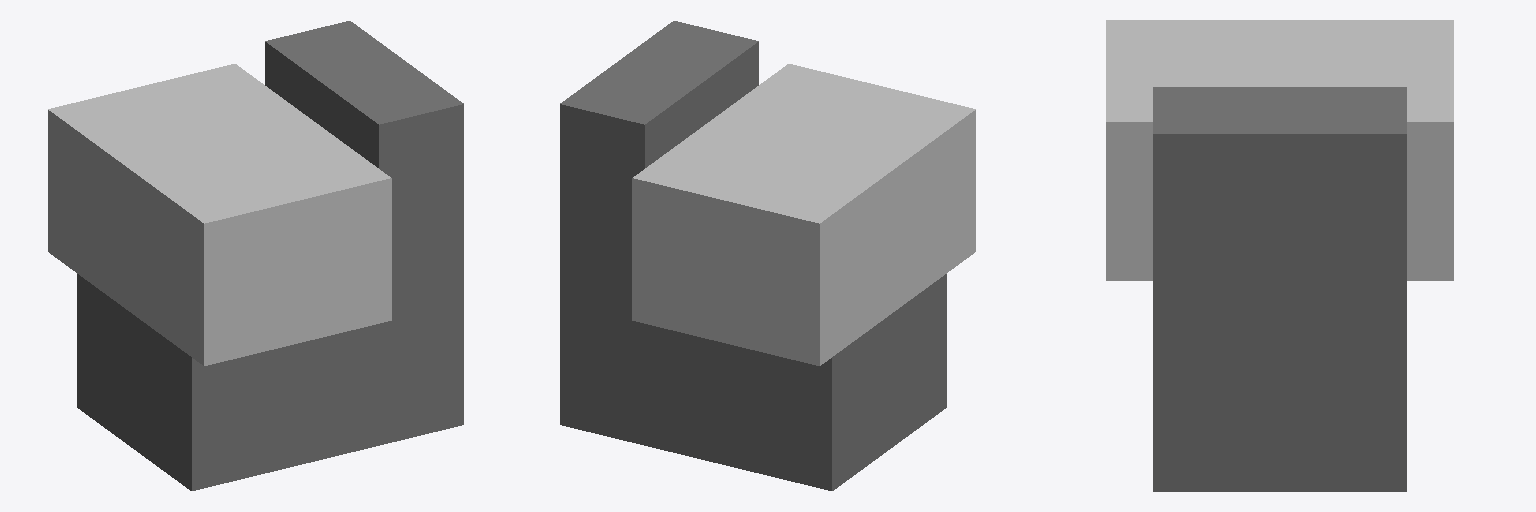
robot.urdf — cpm_fix_rod_30:
<robot name="cpm_fix_rod_30">
  
  
  
  
  <link name="world"><inertial><mass value="0.0" /><origin rpy="0 0 0" xyz="0 0 0" /><inertia ixx="0.0" ixy="0.0" ixz="0.0" iyy="0.0" iyz="0.0" izz="0.0" /></inertial></link>
  <joint name="world_joint" type="fixed">
    <parent link="world" />
    <child link="mobile_base_link" />
    <origin rpy="0.0 0.0 0.0" xyz="-0.275 0.0 0.2" />
  </joint>
  <link name="mobile_base_link">
    <inertial>
      <mass value="100.0" />
      <origin rpy="0 0 0" xyz="0 0 0.4" />
      <inertia ixx="4.136665012" ixy="0.0" ixz="0.0" iyy="6.666664000000002" iyz="0.0" izz="8.136663412" />
    </inertial>
    <visual>
      <material name="grey">
        <color rgba="0.5 0.5 0.5 1" />
      </material>
      <orign rpy="0.0 0.0 0.0" xyz="0.0 0.0 0.0" />
      <geometry>
        <box size="0.8 0.58 0.4" />
      </geometry>
    </visual>
    <collision>
      <orign rpy="0.0 0.0 0.0" xyz="0.0 0.0 0.0" />
      <geometry>
        <box size="0.8 0.58 0.4" />
      </geometry>
    </collision>
  </link>
  <joint name="tower_joint" type="fixed">
    <parent link="mobile_base_link" />
    <child link="tower_link" />
    <origin rpy="0.0 0.0 0.0" xyz="0.275 0.0 0.45" />
  </joint>
  <link name="tower_link">
    <inertial>
      <mass value="50.0" />
      <origin rpy="0 0 0" xyz="0 0 0.5" />
      <inertia ixx="2.443332356" ixy="0.0" ixz="0.0" iyy="1.3020828125000001" iyz="0.0" izz="1.6620826684999999" />
    </inertial>
    <visual>
      <material name="grey">
        <color rgba="0.5 0.5 0.5 1" />
      </material>
      <orign rpy="0.0 0.0 0.0" xyz="0.0 0.0 0.0" />
      <geometry>
        <box size="0.25 0.58 0.5" />
      </geometry>
    </visual>
    <collision>
      <orign rpy="0.0 0.0 0.0" xyz="0.0 0.0 0.0" />
      <geometry>
        <box size="0.25 0.58 0.5" />
      </geometry>
    </collision>
  </link>
  <joint name="battery_joint" type="fixed">
    <parent link="mobile_base_link" />
    <child link="battery_link" />
    <origin rpy="0.0 0.0 0.0" xyz="-0.15 0.0 0.4" />
  </joint>
  <link name="battery_link">
    <inertial>
      <mass value="300.0" />
      <origin rpy="0 0 0" xyz="0 0 0.4" />
      <inertia ixx="19.80061707975" ixy="0.0" ixz="0.0" iyy="11.562495375000003" iyz="0.0" izz="23.36311565475" />
    </inertial>
    <visual>
      <material name="aluminium">
        <color rgba="0.8 0.8 0.8 1" />
      </material>
      <orign rpy="0.0 0.0 0.0" xyz="0.0 0.0 0.0" />
      <geometry>
        <box size="0.55 0.795 0.4" />
      </geometry>
    </visual>
    <collision>
      <orign rpy="0.0 0.0 0.0" xyz="0.0 0.0 0.0" />
      <geometry>
        <box size="0.55 0.795 0.4" />
      </geometry>
    </collision>
  </link>
  
  <gazebo reference="mobile_base_link">
    <material>Gazebo/DarkGrey</material>
  </gazebo>
  <gazebo reference="tower_link">
    <material>Gazebo/DarkGrey</material>
  </gazebo>
  <gazebo reference="battery_link">
    <material>Gazebo/Grey</material>
  </gazebo>
  
  <joint name="platform_ur10e_joint" type="fixed">
    <parent link="tower_link" />
    <child link="base_link" />
    <origin rpy="0.0 0.0 1.570795" xyz="0.0 0.0 0.25" />
  </joint>
  
  
  <transmission name="shoulder_pan_trans">
    <type>transmission_interface/SimpleTransmission</type>
    <joint name="shoulder_pan_joint">
      <hardwareInterface>hardware_interface/VelocityJointInterface</hardwareInterface>
    </joint>
    <actuator name="shoulder_pan_motor">
      <mechanicalReduction>1</mechanicalReduction>
    </actuator>
  </transmission>
  <transmission name="shoulder_lift_trans">
    <type>transmission_interface/SimpleTransmission</type>
    <joint name="shoulder_lift_joint">
      <hardwareInterface>hardware_interface/VelocityJointInterface</hardwareInterface>
    </joint>
    <actuator name="shoulder_lift_motor">
      <mechanicalReduction>1</mechanicalReduction>
    </actuator>
  </transmission>
  <transmission name="elbow_trans">
    <type>transmission_interface/SimpleTransmission</type>
    <joint name="elbow_joint">
      <hardwareInterface>hardware_interface/VelocityJointInterface</hardwareInterface>
    </joint>
    <actuator name="elbow_motor">
      <mechanicalReduction>1</mechanicalReduction>
    </actuator>
  </transmission>
  <transmission name="wrist_1_trans">
    <type>transmission_interface/SimpleTransmission</type>
    <joint name="wrist_1_joint">
      <hardwareInterface>hardware_interface/VelocityJointInterface</hardwareInterface>
    </joint>
    <actuator name="wrist_1_motor">
      <mechanicalReduction>1</mechanicalReduction>
    </actuator>
  </transmission>
  <transmission name="wrist_2_trans">
    <type>transmission_interface/SimpleTransmission</type>
    <joint name="wrist_2_joint">
      <hardwareInterface>hardware_interface/VelocityJointInterface</hardwareInterface>
    </joint>
    <actuator name="wrist_2_motor">
      <mechanicalReduction>1</mechanicalReduction>
    </actuator>
  </transmission>
  <transmission name="wrist_3_trans">
    <type>transmission_interface/SimpleTransmission</type>
    <joint name="wrist_3_joint">
      <hardwareInterface>hardware_interface/VelocityJointInterface</hardwareInterface>
    </joint>
    <actuator name="wrist_3_motor">
      <mechanicalReduction>1</mechanicalReduction>
    </actuator>
  </transmission>
  
  <link name="base_link"><inertial><mass value="0.0" /><origin rpy="0 0 0" xyz="0 0 0" /><inertia ixx="0.0" ixy="0.0" ixz="0.0" iyy="0.0" iyz="0.0" izz="0.0" /></inertial></link>
  <link name="base_link_inertia">
    <visual>
      <origin rpy="0 0 3.141592653589793" xyz="0 0 0" />
      <geometry>
        <mesh filename="package://ur_description/meshes/ur10e/visual/base.dae" />
      </geometry>
      <material name="LightGrey">
        <color rgba="0.7 0.7 0.7 1.0" />
      </material>
    </visual>
    <collision>
      <origin rpy="0 0 3.141592653589793" xyz="0 0 0" />
      <geometry>
        <mesh filename="package://ur_description/meshes/ur10e/collision/base.stl" />
      </geometry>
    </collision>
    <inertial>
      <mass value="4.0" />
      <origin rpy="0 0 0" xyz="0 0 0" />
      <inertia ixx="0.0061063308908" ixy="0.0" ixz="0.0" iyy="0.0061063308908" iyz="0.0" izz="0.01125" />
    </inertial>
  </link>
  <link name="shoulder_link">
    <visual>
      <origin rpy="0 0 3.141592653589793" xyz="0 0 0" />
      <geometry>
        <mesh filename="package://ur_description/meshes/ur10e/visual/shoulder.dae" />
      </geometry>
      <material name="LightGrey">
        <color rgba="0.7 0.7 0.7 1.0" />
      </material>
    </visual>
    <collision>
      <origin rpy="0 0 3.141592653589793" xyz="0 0 0" />
      <geometry>
        <mesh filename="package://ur_description/meshes/ur10e/collision/shoulder.stl" />
      </geometry>
    </collision>
    <inertial>
      <mass value="7.778" />
      <origin rpy="0 0 0" xyz="0 0 0" />
      <inertia ixx="0.03147431257693659" ixy="0.0" ixz="0.0" iyy="0.03147431257693659" iyz="0.0" izz="0.021875624999999996" />
    </inertial>
  </link>
  <link name="upper_arm_link">
    <visual>
      <origin rpy="1.5707963267948966 0 -1.5707963267948966" xyz="0 0 0.1762" />
      <geometry>
        <mesh filename="package://ur_description/meshes/ur10e/visual/upperarm.dae" />
      </geometry>
      <material name="LightGrey">
        <color rgba="0.7 0.7 0.7 1.0" />
      </material>
    </visual>
    <collision>
      <origin rpy="1.5707963267948966 0 -1.5707963267948966" xyz="0 0 0.1762" />
      <geometry>
        <mesh filename="package://ur_description/meshes/ur10e/collision/upperarm.stl" />
      </geometry>
    </collision>
    <inertial>
      <mass value="12.93" />
      <origin rpy="0 1.5707963267948966 0" xyz="-0.306 0.0 0.175" />
      <inertia ixx="0.42175380379841093" ixy="0.0" ixz="0.0" iyy="0.42175380379841093" iyz="0.0" izz="0.03636562499999999" />
    </inertial>
  </link>
  <link name="forearm_link">
    <visual>
      <origin rpy="1.5707963267948966 0 -1.5707963267948966" xyz="0 0 0.0393" />
      <geometry>
        <mesh filename="package://ur_description/meshes/ur10e/visual/forearm.dae" />
      </geometry>
      <material name="LightGrey">
        <color rgba="0.7 0.7 0.7 1.0" />
      </material>
    </visual>
    <collision>
      <origin rpy="1.5707963267948966 0 -1.5707963267948966" xyz="0 0 0.0393" />
      <geometry>
        <mesh filename="package://ur_description/meshes/ur10e/collision/forearm.stl" />
      </geometry>
    </collision>
    <inertial>
      <mass value="3.87" />
      <origin rpy="0 1.5707963267948966 0" xyz="-0.285775 0.0 0.0393" />
      <inertia ixx="0.11079302548902206" ixy="0.0" ixz="0.0" iyy="0.11079302548902206" iyz="0.0" izz="0.010884375" />
    </inertial>
  </link>
  <link name="wrist_1_link">
    <visual>
      
      <origin rpy="1.5707963267948966 0 0" xyz="0 0 -0.135" />
      <geometry>
        <mesh filename="package://ur_description/meshes/ur10e/visual/wrist1.dae" />
      </geometry>
      <material name="LightGrey">
        <color rgba="0.7 0.7 0.7 1.0" />
      </material>
    </visual>
    <collision>
      <origin rpy="1.5707963267948966 0 0" xyz="0 0 -0.135" />
      <geometry>
        <mesh filename="package://ur_description/meshes/ur10e/collision/wrist1.stl" />
      </geometry>
    </collision>
    <inertial>
      <mass value="1.96" />
      <origin rpy="0 0 0" xyz="0 0 0" />
      <inertia ixx="0.005108247956699999" ixy="0.0" ixz="0.0" iyy="0.005108247956699999" iyz="0.0" izz="0.005512499999999999" />
    </inertial>
  </link>
  <link name="wrist_2_link">
    <visual>
      <origin rpy="0 0 0" xyz="0 0 -0.12" />
      <geometry>
        <mesh filename="package://ur_description/meshes/ur10e/visual/wrist2.dae" />
      </geometry>
      <material name="LightGrey">
        <color rgba="0.7 0.7 0.7 1.0" />
      </material>
    </visual>
    <collision>
      <origin rpy="0 0 0" xyz="0 0 -0.12" />
      <geometry>
        <mesh filename="package://ur_description/meshes/ur10e/collision/wrist2.stl" />
      </geometry>
    </collision>
    <inertial>
      <mass value="1.96" />
      <origin rpy="0 0 0" xyz="0 0 0" />
      <inertia ixx="0.005108247956699999" ixy="0.0" ixz="0.0" iyy="0.005108247956699999" iyz="0.0" izz="0.005512499999999999" />
    </inertial>
  </link>
  <link name="wrist_3_link">
    <visual>
      <origin rpy="1.5707963267948966 0 0" xyz="0 0 -0.1168" />
      <geometry>
        <mesh filename="package://ur_description/meshes/ur10e/visual/wrist3.dae" />
      </geometry>
      <material name="LightGrey">
        <color rgba="0.7 0.7 0.7 1.0" />
      </material>
    </visual>
    <collision>
      <origin rpy="1.5707963267948966 0 0" xyz="0 0 -0.1168" />
      <geometry>
        <mesh filename="package://ur_description/meshes/ur10e/collision/wrist3.stl" />
      </geometry>
    </collision>
    <inertial>
      <mass value="0.202" />
      <origin rpy="0 0 0" xyz="0.0 0.0 -0.025" />
      <inertia ixx="0.00014434577559500002" ixy="0.0" ixz="0.0" iyy="0.00014434577559500002" iyz="0.0" izz="0.00020452500000000002" />
    </inertial>
  </link>
  
  <joint name="base_link-base_link_inertia" type="fixed">
    <parent link="base_link" />
    <child link="base_link_inertia" />
    
    <origin rpy="0 0 3.141592653589793" xyz="0 0 0" />
  </joint>
  <joint name="shoulder_pan_joint" type="revolute">
    <parent link="base_link_inertia" />
    <child link="shoulder_link" />
    <origin rpy="0 0 0" xyz="0 0 0.1807" />
    <axis xyz="0 0 1" />
    <limit effort="330.0" lower="-3.141592653589793" upper="3.141592653589793" velocity="3.141592653589793" />
    <dynamics damping="0" friction="0" />
  </joint>
  <joint name="shoulder_lift_joint" type="revolute">
    <parent link="shoulder_link" />
    <child link="upper_arm_link" />
    <origin rpy="1.570796327 0 0" xyz="0 0 0" />
    <axis xyz="0 0 1" />
    <limit effort="330.0" lower="-3.141592653589793" upper="0.0" velocity="3.141592653589793" />
    <dynamics damping="0" friction="0" />
  </joint>
  <joint name="elbow_joint" type="revolute">
    <parent link="upper_arm_link" />
    <child link="forearm_link" />
    <origin rpy="0 0 0" xyz="-0.6127 0 0" />
    <axis xyz="0 0 1" />
    <limit effort="150.0" lower="-3.141592653589793" upper="0.0" velocity="3.141592653589793" />
    <dynamics damping="0" friction="0" />
  </joint>
  <joint name="wrist_1_joint" type="revolute">
    <parent link="forearm_link" />
    <child link="wrist_1_link" />
    <origin rpy="0 0 0" xyz="-0.57155 0 0.17415" />
    <axis xyz="0 0 1" />
    <limit effort="56.0" lower="-3.141592653589793" upper="3.141592653589793" velocity="3.141592653589793" />
    <dynamics damping="0" friction="0" />
  </joint>
  <joint name="wrist_2_joint" type="revolute">
    <parent link="wrist_1_link" />
    <child link="wrist_2_link" />
    <origin rpy="1.570796327 0 0" xyz="0 -0.11985 -2.458164590756244e-11" />
    <axis xyz="0 0 1" />
    <limit effort="56.0" lower="-3.141592653589793" upper="3.141592653589793" velocity="3.141592653589793" />
    <dynamics damping="0" friction="0" />
  </joint>
  <joint name="wrist_3_joint" type="revolute">
    <parent link="wrist_2_link" />
    <child link="wrist_3_link" />
    <origin rpy="1.570796326589793 3.141592653589793 3.141592653589793" xyz="0 0.11655 -2.390480459346185e-11" />
    <axis xyz="0 0 1" />
    <limit effort="56.0" lower="-0.7853981633974483" upper="5.497787143782138" velocity="3.141592653589793" />
    <dynamics damping="0" friction="0" />
  </joint>
  
  <link name="base"><inertial><mass value="0.0" /><origin rpy="0 0 0" xyz="0 0 0" /><inertia ixx="0.0" ixy="0.0" ixz="0.0" iyy="0.0" iyz="0.0" izz="0.0" /></inertial></link>
  <joint name="base_link-base_fixed_joint" type="fixed">
    
    <origin rpy="0 0 3.141592653589793" xyz="0 0 0" />
    <parent link="base_link" />
    <child link="base" />
  </joint>
  
  <link name="flange"><inertial><mass value="0.0" /><origin rpy="0 0 0" xyz="0 0 0" /><inertia ixx="0.0" ixy="0.0" ixz="0.0" iyy="0.0" iyz="0.0" izz="0.0" /></inertial></link>
  <joint name="wrist_3-flange" type="fixed">
    <parent link="wrist_3_link" />
    <child link="flange" />
    <origin rpy="0 -1.5707963267948966 -1.5707963267948966" xyz="0 0 0" />
  </joint>
  
  <link name="tool0"><inertial><mass value="0.0" /><origin rpy="0 0 0" xyz="0 0 0" /><inertia ixx="0.0" ixy="0.0" ixz="0.0" iyy="0.0" iyz="0.0" izz="0.0" /></inertial></link>
  <joint name="flange-tool0" type="fixed">
    
    <origin rpy="1.5707963267948966 0 1.5707963267948966" xyz="0 0 0" />
    <parent link="flange" />
    <child link="tool0" />
  </joint>
  
  <gazebo reference="shoulder_link">
    <selfCollide>true</selfCollide>
  </gazebo>
  <gazebo reference="upper_arm_link">
    <selfCollide>true</selfCollide>
  </gazebo>
  <gazebo reference="forearm_link">
    <selfCollide>true</selfCollide>
  </gazebo>
  <gazebo reference="wrist_1_link">
    <selfCollide>true</selfCollide>
  </gazebo>
  <gazebo reference="wrist_3_link">
    <selfCollide>true</selfCollide>
  </gazebo>
  <gazebo reference="wrist_2_link">
    <selfCollide>true</selfCollide>
  </gazebo>
  <gazebo reference="ee_link">
    <selfCollide>true</selfCollide>
  </gazebo>
  <link name="ft_sensor_mounting">
    <inertial>
      <origin rpy="0 0 0" xyz="-9.4473E-05 0.00063177 0.010132" />
      <mass value="0.14931" />
      <inertia ixx="4.8806E-05" ixy="3.2223E-08" ixz="-1.0415E-07" iyy="5.5473E-05" iyz="1.3709E-07" izz="8.9696E-05" />
    </inertial>
    <visual>
      <origin rpy="0 0 0" xyz="0 0 0" />
      <geometry>
        <mesh filename="package://rokubimini_description/meshes/BFT_SENS_M8/mounting.STL" />
      </geometry>
      <material name="">
        <color rgba="0.6902 0.61176 0.52941 1" />
      </material>
    </visual>
    <collision>
      <origin rpy="0 0 0" xyz="0 0 0.011" />
      <geometry>
        <cylinder length="0.028" radius="0.035" />
      </geometry>
    </collision>
    <collision>
      <origin rpy="1.57 0 0" xyz="0 0.051 0.0115" />
      <geometry>
        <cylinder length="0.032" radius="0.0065" />
      </geometry>
    </collision>
    <collision>
      <origin rpy="0 0 0" xyz="0 0 0.03" />
      <geometry>
        <cylinder length="0.01" radius="0.0315" />
      </geometry>
    </collision>
  </link>
  <link name="ft_sensor_imu">
    <inertial>
      <origin rpy="0 0 0" xyz="-7.28164825396643E-05 1.54951151759942E-05 -0.00279059266096084" />
      <mass value="0.00841533584597687" />
      <inertia ixx="4.36835040253875E-07" ixy="-6.98609475825204E-11" ixz="-6.08397676352913E-15" iyy="4.41035649008913E-07" iyz="1.1033148379698E-11" izz="8.74962095262403E-07" />
    </inertial>
  </link>
  <joint name="mounting_to_imu" type="fixed">
    <origin rpy="0 0 0" xyz="0 0 0.0093" />
    <parent link="ft_sensor_mounting" />
    <child link="ft_sensor_imu" />
    <axis xyz="0 0 0" />
  </joint>
  <link name="ft_sensor_wrench">
    <inertial>
      <origin rpy="0 0 0" xyz="-1.9753E-07 0.00017443 -0.0070758" />
      <mass value="0.081117" />
      <inertia ixx="2.1858E-05" ixy="-1.9153E-12" ixz="3.7592E-11" iyy="2.2215E-05" iyz="-4.9937E-08" izz="4.0048E-05" />
    </inertial>
  </link>
  <joint name="mounting_to_wrench" type="fixed">
    <origin rpy="0 0 0" xyz="0 0 0.035" />
    <parent link="ft_sensor_mounting" />
    <child link="ft_sensor_wrench" />
    <axis xyz="0 0 0" />
  </joint>
  <link name="ft_sensor_mech1">
    <inertial><mass value="0.0" /><origin rpy="0 0 0" xyz="0 0 0" /><inertia ixx="0.0" ixy="0.0" ixz="0.0" iyy="0.0" iyz="0.0" izz="0.0" /></inertial></link>
  <joint name="mounting_to_mech1" type="fixed">
    <origin rpy="1.5625 0 -1.5708" xyz="-0.032879 0 0.0105" />
    <parent link="ft_sensor_mounting" />
    <child link="ft_sensor_mech1" />
    <axis xyz="0 0 0" />
  </joint>
  <link name="ft_sensor_mech2">
    <inertial><mass value="0.0" /><origin rpy="0 0 0" xyz="0 0 0" /><inertia ixx="0.0" ixy="0.0" ixz="0.0" iyy="0.0" iyz="0.0" izz="0.0" /></inertial></link>
  <joint name="mounting_to_mech2" type="fixed">
    <origin rpy="1.5708 0 0" xyz="0 -0.032879 0.0105" />
    <parent link="ft_sensor_mounting" />
    <child link="ft_sensor_mech2" />
    <axis xyz="0 0 0" />
  </joint>
  <link name="ft_sensor_mech3">
    <inertial><mass value="0.0" /><origin rpy="0 0 0" xyz="0 0 0" /><inertia ixx="0.0" ixy="0.0" ixz="0.0" iyy="0.0" iyz="0.0" izz="0.0" /></inertial></link>
  <joint name="mounting_to_mech3" type="fixed">
    <origin rpy="1.5708 0 1.5708" xyz="0.032879 0 0.0105" />
    <parent link="ft_sensor_mounting" />
    <child link="ft_sensor_mech3" />
    <axis xyz="0 0 0" />
  </joint>
  <joint name="ur_to_sensor" type="fixed">
    <parent link="tool0" />
    <child link="ft_sensor_mounting" />
    <origin rpy="0.0 0.0 0.0" xyz="0.0 0.0 0.0" />
  </joint>
  
  
  
  
  
  
  
  
  
  <joint name="rod_joint" type="fixed">
    <parent link="ft_sensor_wrench" />
    <child link="rod" />
    <origin rpy="0.0 0.0 0.0" xyz="0.0 0.0 0.035" />
  </joint>
  <link name="rod">
    <visual>
      <origin rpy="0 0 0" xyz="0 0 0" />
      <geometry>
        <mesh filename="package://chargepal_tools/plugs/meshes/visual/Rod_32.5_Visual.obj" scale="0.001 0.001 0.001" />
      </geometry>
      <material name="field_green">
        <color rgba="0.3686274509803922 0.7450980392156863 0.49019607843137253 1" />
      </material>
    </visual>
    <collision>
      <origin rpy="0 0 0" xyz="0 0 0" />
      <geometry>
        <mesh filename="package://chargepal_tools/plugs/meshes/collision/Rod_32.5_Collision.obj" scale="0.001 0.001 0.001" />
      </geometry>
    </collision>
    <inertial>
      <mass value="0.2" />
      <origin rpy="0 0 0" xyz="0 0 0" />
      <inertia ixx="9.697912787500001e-05" ixy="0.0" ixz="0.0" iyy="9.697912787500001e-05" iyz="0.0" izz="3.0625000000000006e-05" />
    </inertial>
  </link>
  <joint name="plug_mounting_joint" type="fixed">
    <parent link="rod" />
    <child link="plug_mounting" />
    <axis xyz="0 0 0" />
    <origin rpy="0 0 0" xyz="0 0 -0.035" />
  </joint>
  <link name="plug_mounting">
    <inertial>
      <mass value="0.0" />
      <origin rpy="0 0 0" xyz="0 0 0" />
      <inertia ixx="0.0" ixy="0.0" ixz="0.0" iyy="0.0" iyz="0.0" izz="0.0" />
    </inertial>
  </link>
  <joint name="plug_lip_joint" type="fixed">
    <parent link="rod" />
    <child link="plug_lip" />
    <axis xyz="0 0 0" />
    <origin rpy="0 0 0" xyz="0 0 -0.015000000000000003" />
  </joint>
  <link name="plug_lip">
    <inertial>
      <mass value="0.0" />
      <origin rpy="0 0 0" xyz="0 0 0" />
      <inertia ixx="0.0" ixy="0.0" ixz="0.0" iyy="0.0" iyz="0.0" izz="0.0" />
    </inertial>
  </link>
  <joint name="plug_tip_joint" type="fixed">
    <parent link="rod" />
    <child link="plug_tip" />
    <axis xyz="0 0 0" />
    <origin rpy="0 0 0" xyz="0 0 0.035" />
  </joint>
  <link name="plug_tip">
    <inertial>
      <mass value="0.0" />
      <origin rpy="0 0 0" xyz="0 0 0" />
      <inertia ixx="0.0" ixy="0.0" ixz="0.0" iyy="0.0" iyz="0.0" izz="0.0" />
    </inertial>
  </link>
  <gazebo reference="rod">
    <material>Gazebo/Blue</material>
  </gazebo>
  <gazebo>
    <plugin filename="libgazebo_ros_control.so" name="gazebo_ros_control">
      <controlPeriod>0.001</controlPeriod>
      <legacyModeNS>false</legacyModeNS>
    </plugin>
  </gazebo>
</robot>

--- Render facts (derived) ---
Views: 3 orthographic renders of the robot side by side, from view 1: azimuth 30°, elevation 25°; view 2: azimuth 150°, elevation 25°; view 3: azimuth 270°, elevation 25°.
Model cpm_fix_rod_30 with 25 links and 24 joints (6 revolute, 18 fixed), rooted at world, posed all joints at 0.
Visible links, largest first — view 1: battery_link, mobile_base_link, tower_link; view 2: battery_link, mobile_base_link, tower_link; view 3: tower_link, battery_link, mobile_base_link.
Boxes of the visible links, left/top/right/bottom form: battery_link: left=48, top=64, right=391, bottom=365; mobile_base_link: left=77, top=274, right=463, bottom=490; tower_link: left=265, top=21, right=463, bottom=299; battery_link: left=632, top=64, right=975, bottom=365; mobile_base_link: left=560, top=274, right=946, bottom=490; tower_link: left=560, top=21, right=758, bottom=299; tower_link: left=1153, top=87, right=1406, bottom=331; battery_link: left=1106, top=20, right=1453, bottom=280; mobile_base_link: left=1153, top=332, right=1406, bottom=491.
Size in the robot's own frame: 0.825 by 0.795 by 0.9 metres.
0 mesh visuals loaded from 9 distinct referenced files (none loaded); not drawn: 9 (reference not matched to a file when rendering).